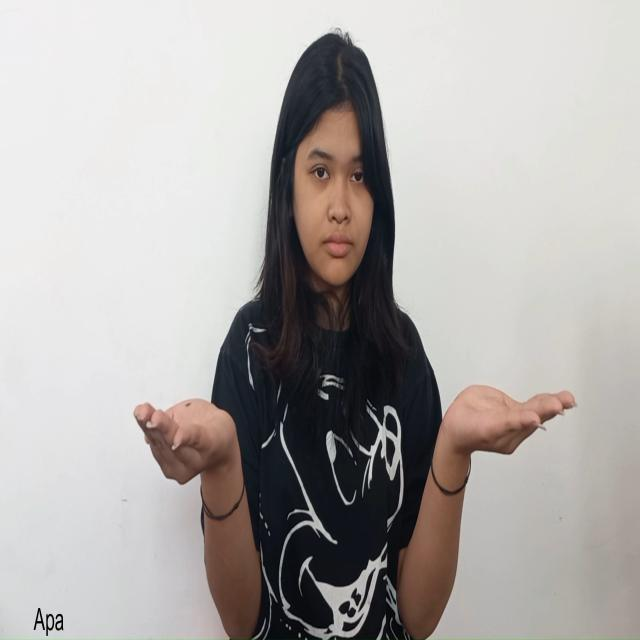Apa -BISINDO-: (132, 381, 579, 487)
